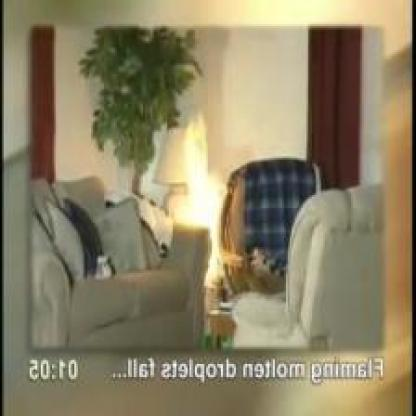Fire: (174, 123, 224, 234)
